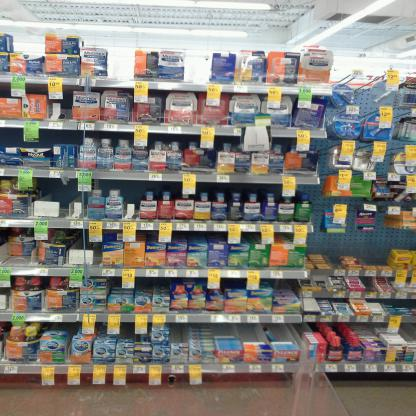Void: (312, 235, 394, 258), (38, 181, 66, 214), (174, 232, 219, 241), (1, 130, 24, 146), (275, 279, 293, 297), (364, 82, 378, 102)
